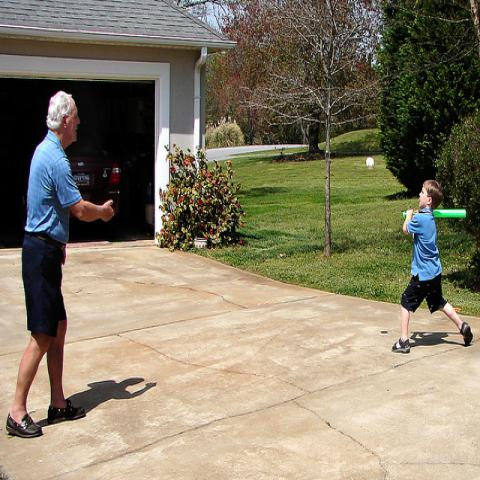car: (64, 140, 121, 214)
